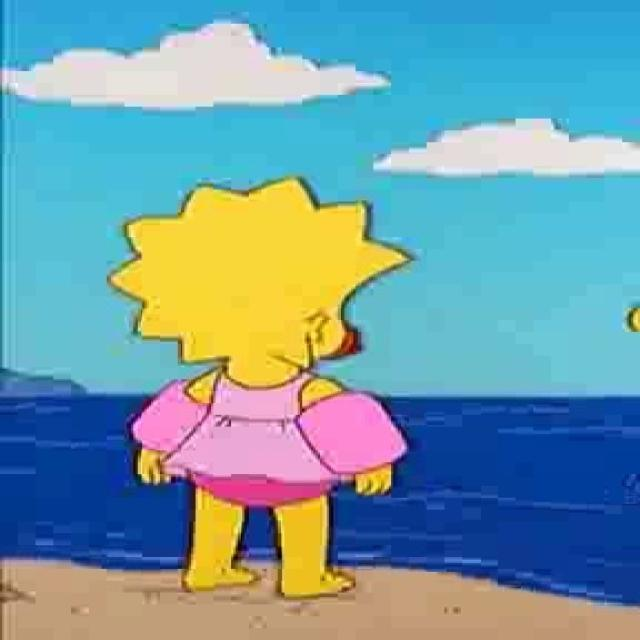Maggie Simpson: (100, 176, 411, 390)
